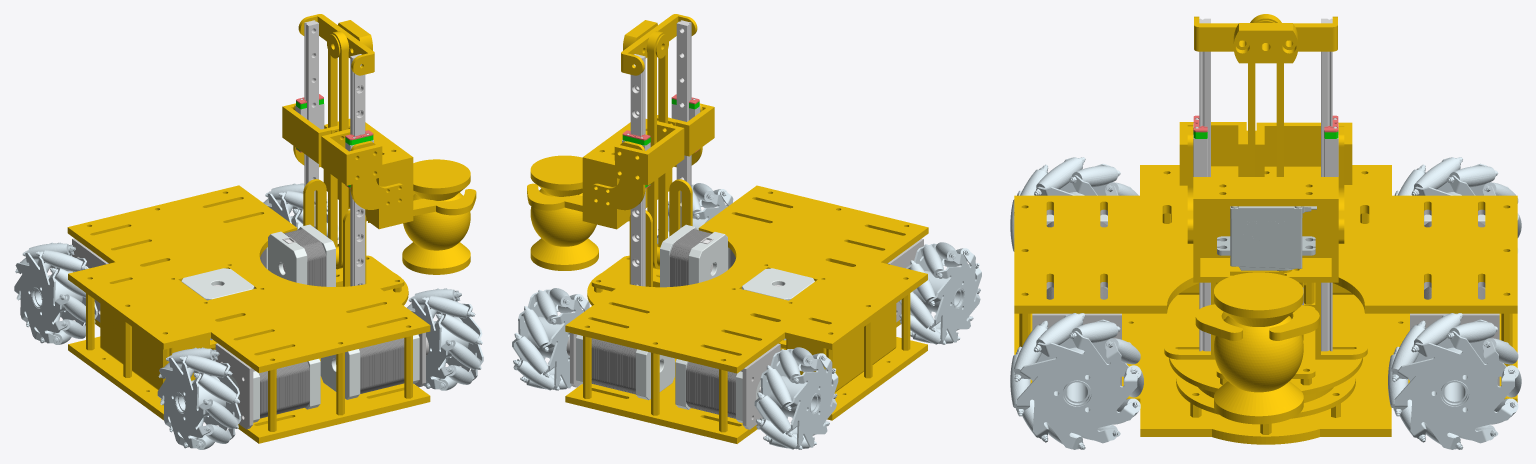
The model's file is 工训小车.glb.
3 renders of one model, left to right at view 1: azimuth 30°, elevation 25°; view 2: azimuth 150°, elevation 25°; view 3: azimuth 270°, elevation 25°, orthographic. The views are drawn at different scales.
Parts seen in each view (by area): view 1: Node6, Node1, Node16, Node11, Node15, Node3, Node5, Node9, Node10; view 2: Node6, Node1, Node16, Node11, Node15, Node3, Node5, Node9, Node10; view 3: Node6, Node1, Node16, Node15, Node2, Node9, Node4, Node7.
Part boxes in pixels (<box>): Node6: <box>67,14,476,443</box>; Node1: <box>14,183,483,448</box>; Node16: <box>15,183,482,449</box>; Node11: <box>181,224,419,422</box>; Node15: <box>295,20,373,286</box>; Node3: <box>276,340,395,414</box>; Node5: <box>259,229,404,418</box>; Node9: <box>72,238,425,429</box>; Node10: <box>284,229,326,286</box>; Node6: <box>527,14,928,443</box>; Node1: <box>512,184,981,449</box>; Node16: <box>514,183,979,449</box>; Node11: <box>576,224,814,422</box>; Node15: <box>622,20,700,286</box>; Node3: <box>600,341,718,414</box>; Node5: <box>591,229,736,418</box>; Node9: <box>570,238,923,429</box>; Node10: <box>669,229,711,286</box>; Node6: <box>1014,14,1517,444</box>; Node1: <box>1014,157,1517,449</box>; Node16: <box>1010,157,1521,449</box>; Node15: <box>1193,18,1338,351</box>; Node2: <box>1230,206,1302,250</box>; Node9: <box>1032,209,1499,386</box>; Node4: <box>1217,206,1315,270</box>; Node7: <box>1239,206,1316,246</box>.
Size of the model in its own units: 300 by 249 by 284.
